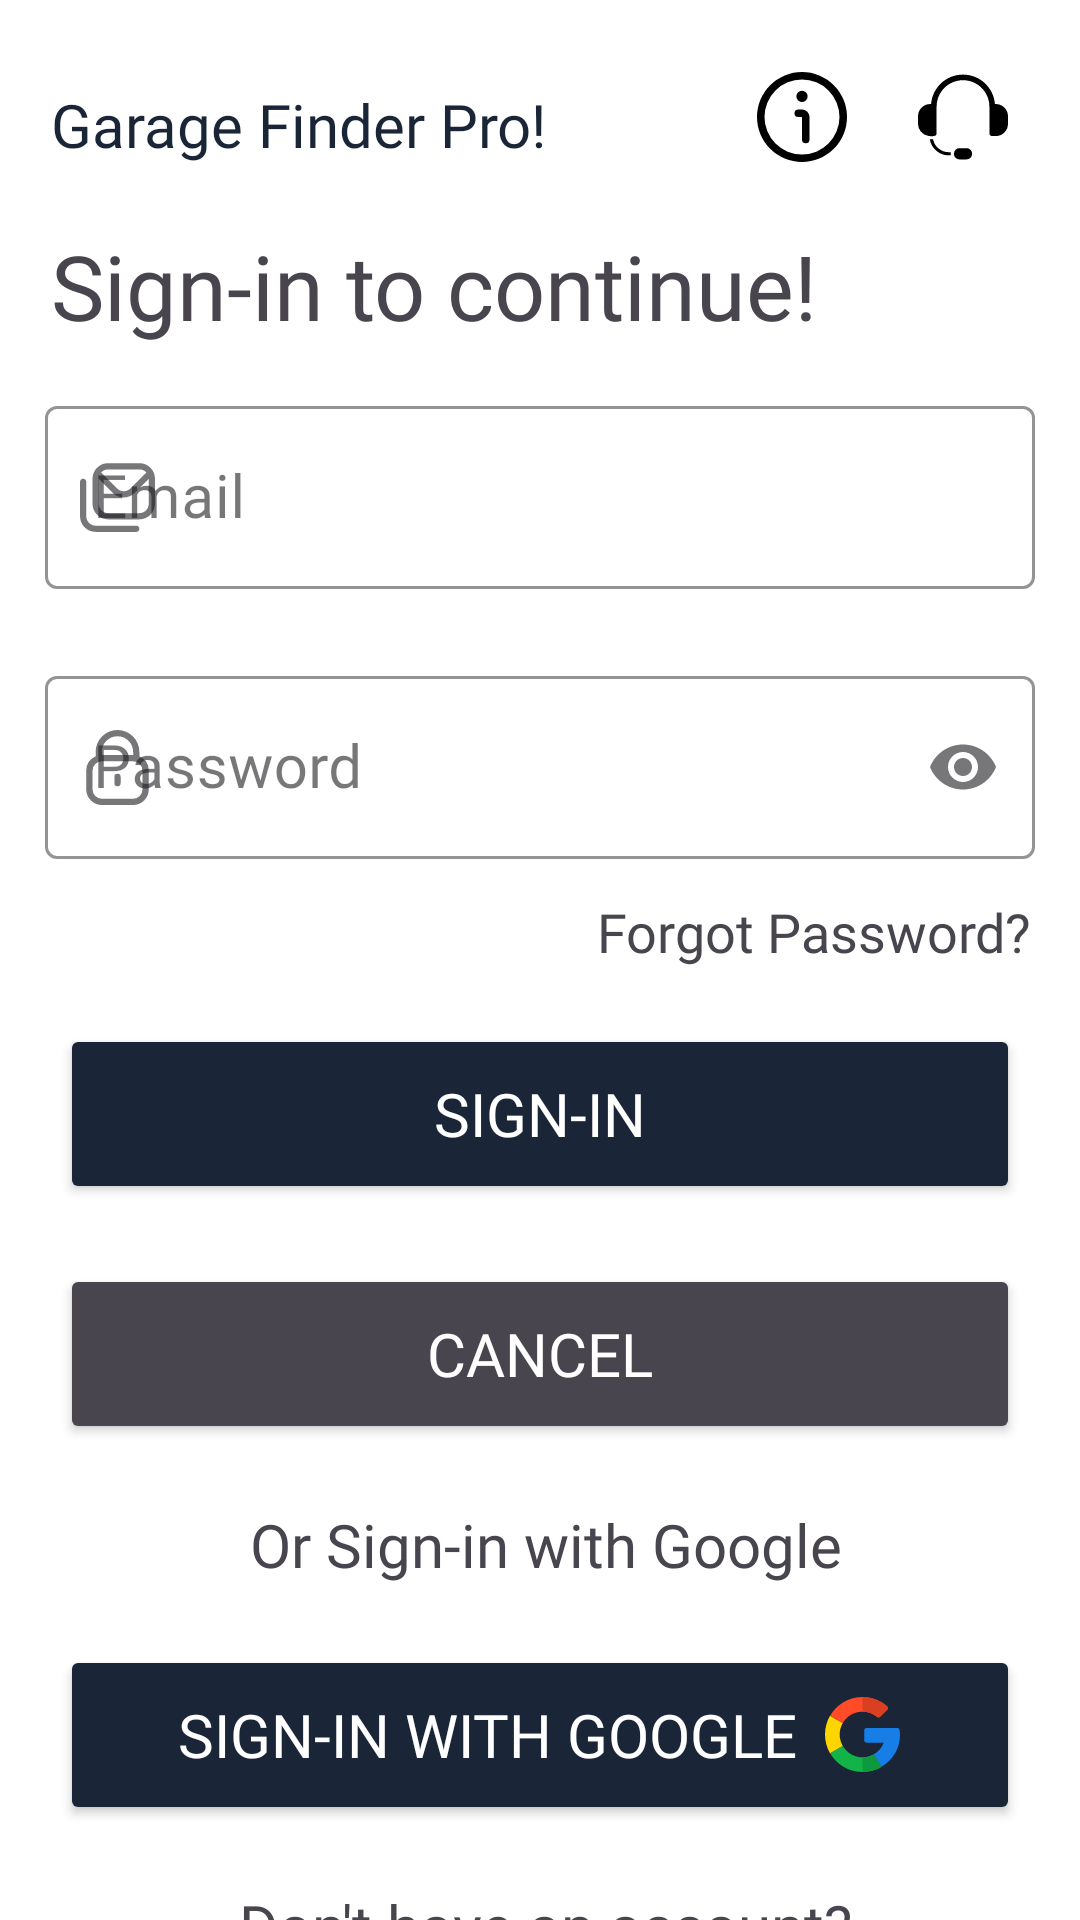

Icons on this 1080×1920 Android screen, each with the point to tap as (x,y):
info: (802,117)
support: (963,117)
